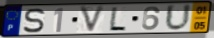1: (53, 7, 65, 33)
6: (141, 6, 162, 31)
L: (107, 6, 128, 32)
S: (22, 7, 47, 34)
U: (164, 3, 193, 33)
V: (78, 5, 107, 35)
